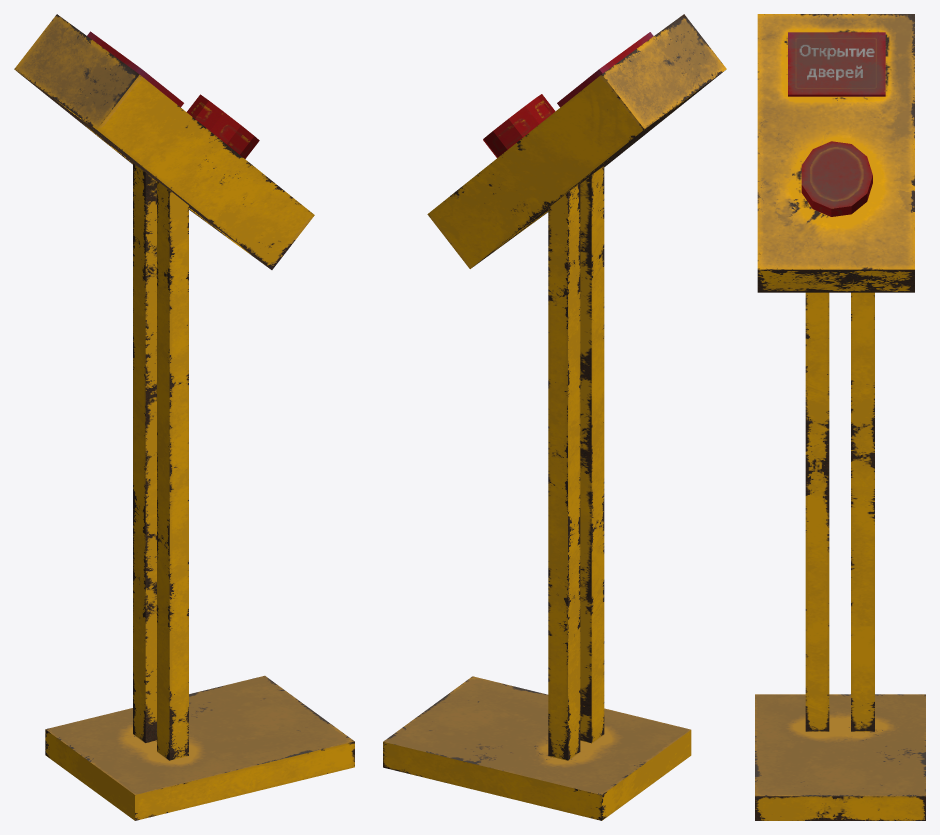
The picture shows the model from 3 angles, left to right: view 1: azimuth 30°, elevation 25°; view 2: azimuth 150°, elevation 25°; view 3: azimuth 270°, elevation 25°; orthographic projection. The views are drawn at different scales.
Parts seen in each view (by area): view 1: objBox005; view 2: objBox005; view 3: objBox005.
Boxes of the visible parts, x1,y1,x2,y2 form: objBox005: (14,14,354,820); objBox005: (383,14,726,820); objBox005: (755,14,925,820).
Bounding box in the file's own units: 7.69 × 21.3 × 4.66.
Materials: 1 (1 with a texture image).
